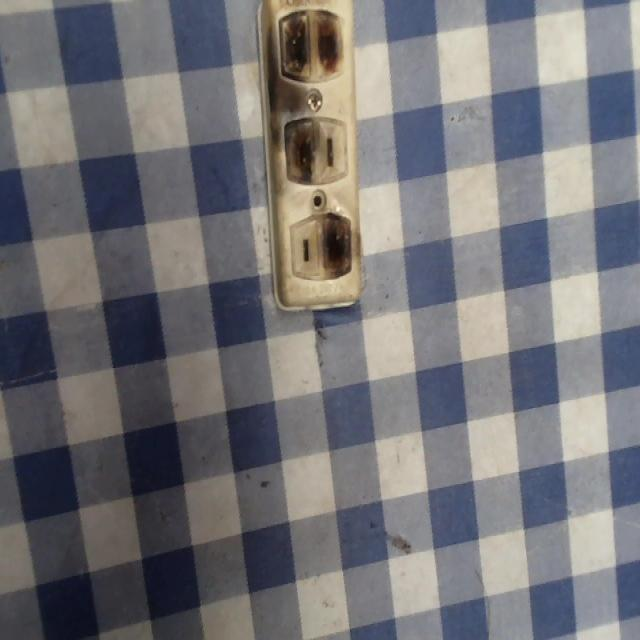-: (265, 8, 345, 83), (275, 112, 318, 185), (318, 209, 357, 283)
